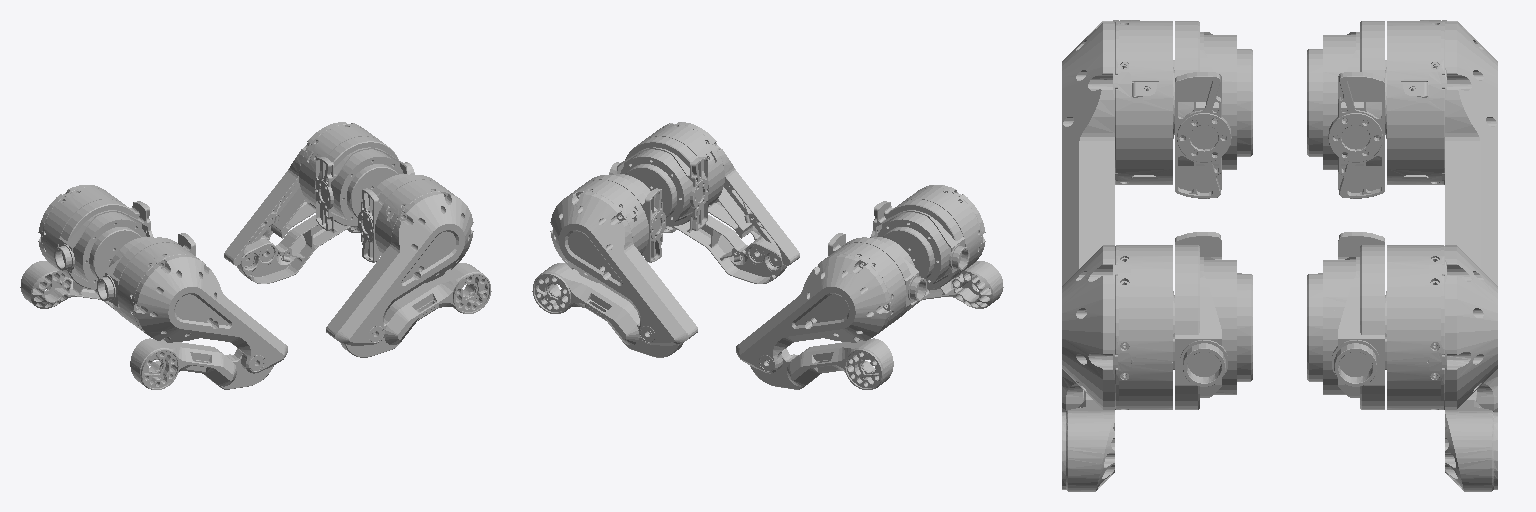
The robot description file, URDF, robot "Y2_dual_urdf_v0":
<?xml version="1.0" encoding="utf-8"?>
<!-- This URDF was automatically created by SolidWorks to URDF Exporter! Originally created by Stephen Brawner (brawner@gmail.com) 
     Commit Version: 1.6.0-4-g7f85cfe  Build Version: 1.6.7995.38578
     For more information, please see http://wiki.ros.org/sw_urdf_exporter -->
<robot
  name="Y2_dual_urdf_v0">
  <link
    name="base_link">
<inertial>
  <origin
    xyz="0.0 0.0 0.00660336"
    rpy="0 0 0" />
  <mass
    value="13.62220311" />
  <inertia
    ixx="0.05745341"
    ixy="-0.0002082"
    ixz="0.0"
    iyy="0.28193067"
    iyz="0.0"
    izz="0.28070589" />
</inertial>
    <visual>
      <origin
        xyz="0 0 0"
        rpy="0 0 0" />
      <geometry>
        <mesh
          filename="package://Y2_dual_urdf_v0/meshes/base_link.STL" />
      </geometry>
      <material
        name="">
        <color
          rgba="0.75294 0.75294 0.75294 1" />
      </material>
    </visual>
    <collision>
      <origin
        xyz="0 0 0"
        rpy="0 0 0" />
      <geometry>
        <mesh
          filename="package://Y2_dual_urdf_v0/meshes/base_link.STL" />
      </geometry>
    </collision>
  </link>
  <link
    name="front_left_hip_link">
<inertial>
  <origin
    xyz="-0.00557137 3.365e-05 0.05740371"
    rpy="0 0 0" />
  <mass
    value="0.93241215" />
  <inertia
    ixx="0.0011636"
    ixy="-4.5e-07"
    ixz="7.77e-06"
    iyy="0.00081261"
    iyz="1.34e-06"
    izz="0.00072333" />
</inertial>
    <visual>
      <origin
        xyz="0 0 0"
        rpy="0 0 0" />
      <geometry>
        <mesh
          filename="package://Y2_dual_urdf_v0/meshes/front_left_hip_link.STL" />
      </geometry>
      <material
        name="">
        <color
          rgba="0.75294 0.75294 0.75294 1" />
      </material>
    </visual>
    <collision>
      <origin
        xyz="0 0 0"
        rpy="0 0 0" />
      <geometry>
        <mesh
          filename="package://Y2_dual_urdf_v0/meshes/front_left_hip_link.STL" />
      </geometry>
    </collision>
  </link>
  <joint
    name="front_left_hip_joint"
    type="revolute">
    <origin
      xyz="0.126 0.0525 0"
      rpy="1.5708 0 1.5708" />
    <parent
      link="base_link" />
    <child
      link="front_left_hip_link" />
    <axis
      xyz="0 0 1" />
    <limit
      lower="0"
      upper="0"
      effort="0"
      velocity="0" />
  </joint>
  <link
    name="front_left_thigh_link">
<inertial>
  <origin
    xyz="0.00850956 0.00116386 -0.03650107"
    rpy="0 0 0" />
  <mass
    value="1.04795802" />
  <inertia
    ixx="0.00097197"
    ixy="-0.00013838"
    ixz="-0.00028846"
    iyy="0.00202121"
    iyz="-4.168e-05"
    izz="0.0022969" />
</inertial>
    <visual>
      <origin
        xyz="0 0 0"
        rpy="0 0 0" />
      <geometry>
        <mesh
          filename="package://Y2_dual_urdf_v0/meshes/front_left_thigh_link.STL" />
      </geometry>
      <material
        name="">
        <color
          rgba="0.75294 0.75294 0.75294 1" />
      </material>
    </visual>
    <collision>
      <origin
        xyz="0 0 0"
        rpy="0 0 0" />
      <geometry>
        <mesh
          filename="package://Y2_dual_urdf_v0/meshes/front_left_thigh_link.STL" />
      </geometry>
    </collision>
  </link>
  <joint
    name="front_left_thigh_joint"
    type="revolute">
    <origin
      xyz="0.087 0 0.0583"
      rpy="-1.5708 0.7854 -1.5708" />
    <parent
      link="front_left_hip_link" />
    <child
      link="front_left_thigh_link" />
    <axis
      xyz="0 0 1" />
    <limit
      lower="-2.3562"
      upper="2.3562"
      effort="0"
      velocity="0" />
  </joint>
  <link
    name="front_left_knee_link">
<inertial>
  <origin
    xyz="0.08449172 0.00209534 -0.00687557"
    rpy="0 0 0" />
  <mass
    value="0.19539429" />
  <inertia
    ixx="6.436e-05"
    ixy="5.555e-05"
    ixz="-3.65e-05"
    iyy="0.0008211"
    iyz="3.3e-07"
    izz="0.0008554" />
</inertial>
    <visual>
      <origin
        xyz="0 0 0"
        rpy="0 0 0" />
      <geometry>
        <mesh
          filename="package://Y2_dual_urdf_v0/meshes/front_left_knee_link.STL" />
      </geometry>
      <material
        name="">
        <color
          rgba="0.75294 0.75294 0.75294 1" />
      </material>
    </visual>
    <collision>
      <origin
        xyz="0 0 0"
        rpy="0 0 0" />
      <geometry>
        <mesh
          filename="package://Y2_dual_urdf_v0/meshes/front_left_knee_link.STL" />
      </geometry>
    </collision>
  </link>
  <joint
    name="front_left_knee_joint"
    type="revolute">
    <origin
      xyz="0.14 0 0"
      rpy="0 0 -2.5197" />
    <parent
      link="front_left_thigh_link" />
    <child
      link="front_left_knee_link" />
    <axis
      xyz="0 0 1" />
    <limit
      lower="0"
      upper="1.9199"
      effort="0"
      velocity="0" />
  </joint>
  <link
    name="front_left_wheel_link">
<inertial>
  <origin
    xyz="-1.864e-05 1.98e-06 0.03424961"
    rpy="0 0 0" />
  <mass
    value="1.48448049" />
  <inertia
    ixx="0.00350856"
    ixy="3e-08"
    ixz="2.2e-07"
    iyy="0.00351161"
    iyz="-2.2e-07"
    izz="0.00660183" />
</inertial>
    <visual>
      <origin
        xyz="0 0 0"
        rpy="0 0 0" />
      <geometry>
        <mesh
          filename="package://Y2_dual_urdf_v0/meshes/front_left_wheel_link.STL" />
      </geometry>
      <material
        name="">
        <color
          rgba="0.89804 0.91765 0.92941 1" />
      </material>
    </visual>
    <collision>
      <origin
        xyz="0 0 0"
        rpy="0 0 0" />
      <geometry>
        <mesh
          filename="package://Y2_dual_urdf_v0/meshes/front_left_wheel_link.STL" />
      </geometry>
    </collision>
  </link>
  <joint
    name="front_left_wheel_joint"
    type="revolute">
    <origin
      xyz="0.14 0 0"
      rpy="0 0 0.16348" />
    <parent
      link="front_left_knee_link" />
    <child
      link="front_left_wheel_link" />
    <axis
      xyz="0 0 1" />
    <limit
      lower="-31415926535"
      upper="31415926535"
      effort="0"
      velocity="0" />
  </joint>
  <link
    name="front_right_hip_link">
<inertial>
  <origin
    xyz="0.00557137 -3.365e-05 0.05740371"
    rpy="0 0 0" />
  <mass
    value="0.93241215" />
  <inertia
    ixx="0.0011636"
    ixy="-4.5e-07"
    ixz="-7.77e-06"
    iyy="0.00081261"
    iyz="-1.34e-06"
    izz="0.00072333" />
</inertial>
    <visual>
      <origin
        xyz="0 0 0"
        rpy="0 0 0" />
      <geometry>
        <mesh
          filename="package://Y2_dual_urdf_v0/meshes/front_right_hip_link.STL" />
      </geometry>
      <material
        name="">
        <color
          rgba="0.75294 0.75294 0.75294 1" />
      </material>
    </visual>
    <collision>
      <origin
        xyz="0 0 0"
        rpy="0 0 0" />
      <geometry>
        <mesh
          filename="package://Y2_dual_urdf_v0/meshes/front_right_hip_link.STL" />
      </geometry>
    </collision>
  </link>
  <joint
    name="front_right_hip_joint"
    type="revolute">
    <origin
      xyz="0.126 -0.0525 0"
      rpy="1.5708 0 1.5708" />
    <parent
      link="base_link" />
    <child
      link="front_right_hip_link" />
    <axis
      xyz="0 0 1" />
    <limit
      lower="0"
      upper="0"
      effort="0"
      velocity="0" />
  </joint>
  <link
    name="front_right_thigh_link">
<inertial>
  <origin
    xyz="0.00850956 0.00116386 0.03650107"
    rpy="0 0 0" />
  <mass
    value="1.04795802" />
  <inertia
    ixx="0.00097197"
    ixy="-0.00013838"
    ixz="0.00028846"
    iyy="0.00202121"
    iyz="4.168e-05"
    izz="0.0022969" />
</inertial>
    <visual>
      <origin
        xyz="0 0 0"
        rpy="0 0 0" />
      <geometry>
        <mesh
          filename="package://Y2_dual_urdf_v0/meshes/front_right_thigh_link.STL" />
      </geometry>
      <material
        name="">
        <color
          rgba="0.75294 0.75294 0.75294 1" />
      </material>
    </visual>
    <collision>
      <origin
        xyz="0 0 0"
        rpy="0 0 0" />
      <geometry>
        <mesh
          filename="package://Y2_dual_urdf_v0/meshes/front_right_thigh_link.STL" />
      </geometry>
    </collision>
  </link>
  <joint
    name="front_right_thigh_joint"
    type="revolute">
    <origin
      xyz="-0.087 0 0.0583"
      rpy="-1.5708 0.7854 -1.5708" />
    <parent
      link="front_right_hip_link" />
    <child
      link="front_right_thigh_link" />
    <axis
      xyz="0 0 1" />
    <limit
      lower="-2.3562"
      upper="2.3562"
      effort="0"
      velocity="0" />
  </joint>
  <link
    name="front_right_knee_link">
<inertial>
  <origin
    xyz="0.08449172 0.00209534 0.00687557"
    rpy="0 0 0" />
  <mass
    value="0.19539429" />
  <inertia
    ixx="6.436e-05"
    ixy="5.555e-05"
    ixz="3.65e-05"
    iyy="0.0008211"
    iyz="-3.3e-07"
    izz="0.0008554" />
</inertial>
    <visual>
      <origin
        xyz="0 0 0"
        rpy="0 0 0" />
      <geometry>
        <mesh
          filename="package://Y2_dual_urdf_v0/meshes/front_right_knee_link.STL" />
      </geometry>
      <material
        name="">
        <color
          rgba="0.75294 0.75294 0.75294 1" />
      </material>
    </visual>
    <collision>
      <origin
        xyz="0 0 0"
        rpy="0 0 0" />
      <geometry>
        <mesh
          filename="package://Y2_dual_urdf_v0/meshes/front_right_knee_link.STL" />
      </geometry>
    </collision>
  </link>
  <joint
    name="front_right_knee_joint"
    type="revolute">
    <origin
      xyz="0.14 0 0"
      rpy="0 0 -2.5197" />
    <parent
      link="front_right_thigh_link" />
    <child
      link="front_right_knee_link" />
    <axis
      xyz="0 0 1" />
    <limit
      lower="0"
      upper="1.9199"
      effort="0"
      velocity="0" />
  </joint>
  <link
    name="front_right_wheel_link">
<inertial>
  <origin
    xyz="-1.864e-05 1.98e-06 -0.03424961"
    rpy="0 0 0" />
  <mass
    value="1.48448049" />
  <inertia
    ixx="0.00350856"
    ixy="3e-08"
    ixz="-2.2e-07"
    iyy="0.00351161"
    iyz="-2.2e-07"
    izz="0.00660183" />
</inertial>
    <visual>
      <origin
        xyz="0 0 0"
        rpy="0 0 0" />
      <geometry>
        <mesh
          filename="package://Y2_dual_urdf_v0/meshes/front_right_wheel_link.STL" />
      </geometry>
      <material
        name="">
        <color
          rgba="0.89804 0.91765 0.92941 1" />
      </material>
    </visual>
    <collision>
      <origin
        xyz="0 0 0"
        rpy="0 0 0" />
      <geometry>
        <mesh
          filename="package://Y2_dual_urdf_v0/meshes/front_right_wheel_link.STL" />
      </geometry>
    </collision>
  </link>
  <joint
    name="front_right_wheel_joint"
    type="revolute">
    <origin
      xyz="0.14 0 0"
      rpy="0 0 0.16348" />
    <parent
      link="front_right_knee_link" />
    <child
      link="front_right_wheel_link" />
    <axis
      xyz="0 0 1" />
    <limit
      lower="-31415926535"
      upper="31415926535"
      effort="0"
      velocity="0" />
  </joint>
  <link
    name="back_left_hip_link">
<inertial>
  <origin
    xyz="-0.00557137 3.365e-05 -0.05740371"
    rpy="0 0 0" />
  <mass
    value="0.93241215" />
  <inertia
    ixx="0.0011636"
    ixy="-4.5e-07"
    ixz="-7.77e-06"
    iyy="0.00081261"
    iyz="-1.34e-06"
    izz="0.00072333" />
</inertial>
    <visual>
      <origin
        xyz="0 0 0"
        rpy="0 0 0" />
      <geometry>
        <mesh
          filename="package://Y2_dual_urdf_v0/meshes/back_left_hip_link.STL" />
      </geometry>
      <material
        name="">
        <color
          rgba="0.75294 0.75294 0.75294 1" />
      </material>
    </visual>
    <collision>
      <origin
        xyz="0 0 0"
        rpy="0 0 0" />
      <geometry>
        <mesh
          filename="package://Y2_dual_urdf_v0/meshes/back_left_hip_link.STL" />
      </geometry>
    </collision>
  </link>
  <joint
    name="back_left_hip_joint"
    type="revolute">
    <origin
      xyz="-0.126 0.0525 0"
      rpy="1.5708 0 1.5708" />
    <parent
      link="base_link" />
    <child
      link="back_left_hip_link" />
    <axis
      xyz="0 0 1" />
    <limit
      lower="0"
      upper="0"
      effort="0"
      velocity="0" />
  </joint>
  <link
    name="back_left_thigh_link">
<inertial>
  <origin
    xyz="0.00850956 -0.00116386 -0.03650107"
    rpy="0 0 0" />
  <mass
    value="1.04795802" />
  <inertia
    ixx="0.00097197"
    ixy="0.00013838"
    ixz="-0.00028846"
    iyy="0.00202121"
    iyz="4.168e-05"
    izz="0.0022969" />
</inertial>
    <visual>
      <origin
        xyz="0 0 0"
        rpy="0 0 0" />
      <geometry>
        <mesh
          filename="package://Y2_dual_urdf_v0/meshes/back_left_thigh_link.STL" />
      </geometry>
      <material
        name="">
        <color
          rgba="0.75294 0.75294 0.75294 1" />
      </material>
    </visual>
    <collision>
      <origin
        xyz="0 0 0"
        rpy="0 0 0" />
      <geometry>
        <mesh
          filename="package://Y2_dual_urdf_v0/meshes/back_left_thigh_link.STL" />
      </geometry>
    </collision>
  </link>
  <joint
    name="back_left_thigh_joint"
    type="revolute">
    <origin
      xyz="0.087 0 -0.0583"
      rpy="-1.5708 -0.7854 -1.5708" />
    <parent
      link="back_left_hip_link" />
    <child
      link="back_left_thigh_link" />
    <axis
      xyz="0 0 1" />
    <limit
      lower="-2.3562"
      upper="2.3562"
      effort="0"
      velocity="0" />
  </joint>
  <link
    name="back_left_knee_link">
<inertial>
  <origin
    xyz="0.08449171 -0.00209534 -0.00687557"
    rpy="0 0 0" />
  <mass
    value="0.19539429" />
  <inertia
    ixx="6.436e-05"
    ixy="-5.555e-05"
    ixz="-3.65e-05"
    iyy="0.0008211"
    iyz="-3.3e-07"
    izz="0.0008554" />
</inertial>
    <visual>
      <origin
        xyz="0 0 0"
        rpy="0 0 0" />
      <geometry>
        <mesh
          filename="package://Y2_dual_urdf_v0/meshes/back_left_knee_link.STL" />
      </geometry>
      <material
        name="">
        <color
          rgba="0.75294 0.75294 0.75294 1" />
      </material>
    </visual>
    <collision>
      <origin
        xyz="0 0 0"
        rpy="0 0 0" />
      <geometry>
        <mesh
          filename="package://Y2_dual_urdf_v0/meshes/back_left_knee_link.STL" />
      </geometry>
    </collision>
  </link>
  <joint
    name="back_left_knee_joint"
    type="revolute">
    <origin
      xyz="0.14 0 0"
      rpy="0 0 2.5197" />
    <parent
      link="back_left_thigh_link" />
    <child
      link="back_left_knee_link" />
    <axis
      xyz="0 0 1" />
    <limit
      lower="-1.9199"
      upper="0"
      effort="0"
      velocity="0" />
  </joint>
  <link
    name="back_left_wheel_link">
<inertial>
  <origin
    xyz="-1.864e-05 -1.98e-06 0.03424961"
    rpy="0 0 0" />
  <mass
    value="1.48448049" />
  <inertia
    ixx="0.00350856"
    ixy="-3e-08"
    ixz="2.2e-07"
    iyy="0.00351161"
    iyz="2.2e-07"
    izz="0.00660183" />
</inertial>
    <visual>
      <origin
        xyz="0 0 0"
        rpy="0 0 0" />
      <geometry>
        <mesh
          filename="package://Y2_dual_urdf_v0/meshes/back_left_wheel_link.STL" />
      </geometry>
      <material
        name="">
        <color
          rgba="1 1 1 1" />
      </material>
    </visual>
    <collision>
      <origin
        xyz="0 0 0"
        rpy="0 0 0" />
      <geometry>
        <mesh
          filename="package://Y2_dual_urdf_v0/meshes/back_left_wheel_link.STL" />
      </geometry>
    </collision>
  </link>
  <joint
    name="back_left_wheel_joint"
    type="revolute">
    <origin
      xyz="0.14 0 0"
      rpy="0 0 2.9781" />
    <parent
      link="back_left_knee_link" />
    <child
      link="back_left_wheel_link" />
    <axis
      xyz="0 0 1" />
    <limit
      lower="-31415926535"
      upper="31415926535"
      effort="0"
      velocity="0" />
  </joint>
  <link
    name="back_right_hip_link">
<inertial>
  <origin
    xyz="0.00557137 3.365e-05 -0.05740371"
    rpy="0 0 0" />
  <mass
    value="0.93241215" />
  <inertia
    ixx="0.0011636"
    ixy="4.5e-07"
    ixz="7.77e-06"
    iyy="0.00081261"
    iyz="-1.34e-06"
    izz="0.00072333" />
</inertial>
    <visual>
      <origin
        xyz="0 0 0"
        rpy="0 0 0" />
      <geometry>
        <mesh
          filename="package://Y2_dual_urdf_v0/meshes/back_right_hip_link.STL" />
      </geometry>
      <material
        name="">
        <color
          rgba="0.75294 0.75294 0.75294 1" />
      </material>
    </visual>
    <collision>
      <origin
        xyz="0 0 0"
        rpy="0 0 0" />
      <geometry>
        <mesh
          filename="package://Y2_dual_urdf_v0/meshes/back_right_hip_link.STL" />
      </geometry>
    </collision>
  </link>
  <joint
    name="back_right_hip_joint"
    type="revolute">
    <origin
      xyz="-0.126 -0.0525 0"
      rpy="1.5708 0 1.5708" />
    <parent
      link="base_link" />
    <child
      link="back_right_hip_link" />
    <axis
      xyz="0 0 1" />
    <limit
      lower="0"
      upper="0"
      effort="0"
      velocity="0" />
  </joint>
  <link
    name="back_right_thigh_link">
<inertial>
  <origin
    xyz="0.00850956 -0.00116386 0.03650107"
    rpy="0 0 0" />
  <mass
    value="1.04795802" />
  <inertia
    ixx="0.00097197"
    ixy="0.00013838"
    ixz="0.00028846"
    iyy="0.00202121"
    iyz="-4.168e-05"
    izz="0.0022969" />
</inertial>
    <visual>
      <origin
        xyz="0 0 0"
        rpy="0 0 0" />
      <geometry>
        <mesh
          filename="package://Y2_dual_urdf_v0/meshes/back_right_thigh_link.STL" />
      </geometry>
      <material
        name="">
        <color
          rgba="0.75294 0.75294 0.75294 1" />
      </material>
    </visual>
    <collision>
      <origin
        xyz="0 0 0"
        rpy="0 0 0" />
      <geometry>
        <mesh
          filename="package://Y2_dual_urdf_v0/meshes/back_right_thigh_link.STL" />
      </geometry>
    </collision>
  </link>
  <joint
    name="back_right_thigh_joint"
    type="revolute">
    <origin
      xyz="-0.087 0 -0.0583"
      rpy="-1.5708 -0.7854 -1.5708" />
    <parent
      link="back_right_hip_link" />
    <child
      link="back_right_thigh_link" />
    <axis
      xyz="0 0 1" />
    <limit
      lower="-2.3562"
      upper="2.3562"
      effort="0"
      velocity="0" />
  </joint>
  <link
    name="back_right_knee_link">
<inertial>
  <origin
    xyz="0.08449171 -0.00209534 0.00687557"
    rpy="0 0 0" />
  <mass
    value="0.19539429" />
  <inertia
    ixx="6.436e-05"
    ixy="-5.555e-05"
    ixz="3.65e-05"
    iyy="0.0008211"
    iyz="3.3e-07"
    izz="0.0008554" />
</inertial>
    <visual>
      <origin
        xyz="0 0 0"
        rpy="0 0 0" />
      <geometry>
        <mesh
          filename="package://Y2_dual_urdf_v0/meshes/back_right_knee_link.STL" />
      </geometry>
      <material
        name="">
        <color
          rgba="0.75294 0.75294 0.75294 1" />
      </material>
    </visual>
    <collision>
      <origin
        xyz="0 0 0"
        rpy="0 0 0" />
      <geometry>
        <mesh
          filename="package://Y2_dual_urdf_v0/meshes/back_right_knee_link.STL" />
      </geometry>
    </collision>
  </link>
  <joint
    name="back_right_knee_joint"
    type="revolute">
    <origin
      xyz="0.14 0 0"
      rpy="0 0 2.5197" />
    <parent
      link="back_right_thigh_link" />
    <child
      link="back_right_knee_link" />
    <axis
      xyz="0 0 1" />
    <limit
      lower="-1.9199"
      upper="0"
      effort="0"
      velocity="0" />
  </joint>
  <link
    name="back_right_wheel_link">
<inertial>
  <origin
    xyz="-1.864e-05 -1.98e-06 -0.03424961"
    rpy="0 0 0" />
  <mass
    value="1.48448049" />
  <inertia
    ixx="0.00350856"
    ixy="-3e-08"
    ixz="-2.2e-07"
    iyy="0.00351161"
    iyz="-2.2e-07"
    izz="0.00660183" />
</inertial>
    <visual>
      <origin
        xyz="0 0 0"
        rpy="0 0 0" />
      <geometry>
        <mesh
          filename="package://Y2_dual_urdf_v0/meshes/back_right_wheel_link.STL" />
      </geometry>
      <material
        name="">
        <color
          rgba="0.89804 0.91765 0.92941 1" />
      </material>
    </visual>
    <collision>
      <origin
        xyz="0 0 0"
        rpy="0 0 0" />
      <geometry>
        <mesh
          filename="package://Y2_dual_urdf_v0/meshes/back_right_wheel_link.STL" />
      </geometry>
    </collision>
  </link>
  <joint
    name="back_right_wheel_joint"
    type="revolute">
    <origin
      xyz="0.14 0 0"
      rpy="0 0 2.9781" />
    <parent
      link="back_right_knee_link" />
    <child
      link="back_right_wheel_link" />
    <axis
      xyz="0 0 1" />
    <limit
      lower="-31415926535"
      upper="31415926535"
      effort="0"
      velocity="0" />
  </joint>
</robot>

--- What the picture shows (computed from the rendered views, not written in the file) ---
3 views of the same robot in one strip: view 1: azimuth 30°, elevation 25°; view 2: azimuth 150°, elevation 25°; view 3: azimuth 270°, elevation 25° (orthographic).
Robot: Y2_dual_urdf_v0 — 17 links, 16 joints (16 revolute); root link base_link; default pose: every joint at zero.
Visible links, largest first — view 1: front_right_thigh_link, back_right_thigh_link, front_left_thigh_link, back_left_hip_link, front_left_hip_link, front_right_knee_link, back_right_knee_link, front_left_knee_link, back_left_knee_link, back_left_thigh_link, front_right_hip_link, back_right_hip_link; view 2: front_left_thigh_link, back_left_thigh_link, front_right_thigh_link, back_right_hip_link, front_right_hip_link, front_left_knee_link, back_left_knee_link, front_right_knee_link, back_right_knee_link, back_right_thigh_link, front_left_hip_link, back_left_hip_link; view 3: back_left_thigh_link, back_right_thigh_link, front_left_thigh_link, front_right_thigh_link, front_left_hip_link, front_right_hip_link, back_left_hip_link, back_right_hip_link, front_left_knee_link, front_right_knee_link.
Boxes of the visible links, <box> form: front_right_thigh_link: <box>326,180,473,345</box>; back_right_thigh_link: <box>117,242,287,373</box>; front_left_thigh_link: <box>224,122,378,267</box>; back_left_hip_link: <box>54,199,153,288</box>; front_left_hip_link: <box>315,136,414,230</box>; front_right_knee_link: <box>340,263,491,357</box>; back_right_knee_link: <box>130,338,273,389</box>; front_left_knee_link: <box>237,215,359,283</box>; back_left_knee_link: <box>20,261,116,310</box>; back_left_thigh_link: <box>38,185,121,275</box>; front_right_hip_link: <box>358,174,437,262</box>; back_right_hip_link: <box>97,233,195,319</box>; front_left_thigh_link: <box>550,180,697,345</box>; back_left_thigh_link: <box>736,242,906,373</box>; front_right_thigh_link: <box>645,122,799,267</box>; back_right_hip_link: <box>870,199,969,288</box>; front_right_hip_link: <box>609,136,708,230</box>; front_left_knee_link: <box>532,263,683,357</box>; back_left_knee_link: <box>750,338,893,389</box>; front_right_knee_link: <box>664,215,786,283</box>; back_right_knee_link: <box>907,261,1003,310</box>; back_right_thigh_link: <box>902,185,985,275</box>; front_left_hip_link: <box>586,174,665,262</box>; back_left_hip_link: <box>828,233,926,319</box>; back_left_thigh_link: <box>1385,20,1497,285</box>; back_right_thigh_link: <box>1062,20,1174,285</box>; front_left_thigh_link: <box>1385,245,1497,411</box>; front_right_thigh_link: <box>1062,245,1174,411</box>; front_left_hip_link: <box>1307,232,1384,409</box>; front_right_hip_link: <box>1175,232,1252,409</box>; back_left_hip_link: <box>1307,21,1384,198</box>; back_right_hip_link: <box>1175,21,1252,198</box>; front_left_knee_link: <box>1445,391,1497,491</box>; front_right_knee_link: <box>1062,391,1114,491</box>.
Bounding box of the posed robot: 0.5029 × 0.302 × 0.1938 m (x, y, z).
Meshes: 17 distinct files referenced, 12 mesh visuals loaded (12 binary STL); not drawn: 5 (reference not matched to a file when rendering).
